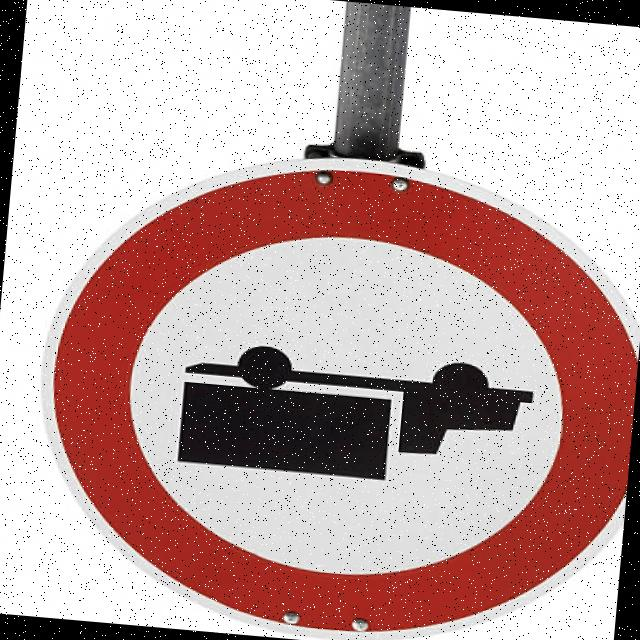do_not_enter: (13, 127, 640, 640)
